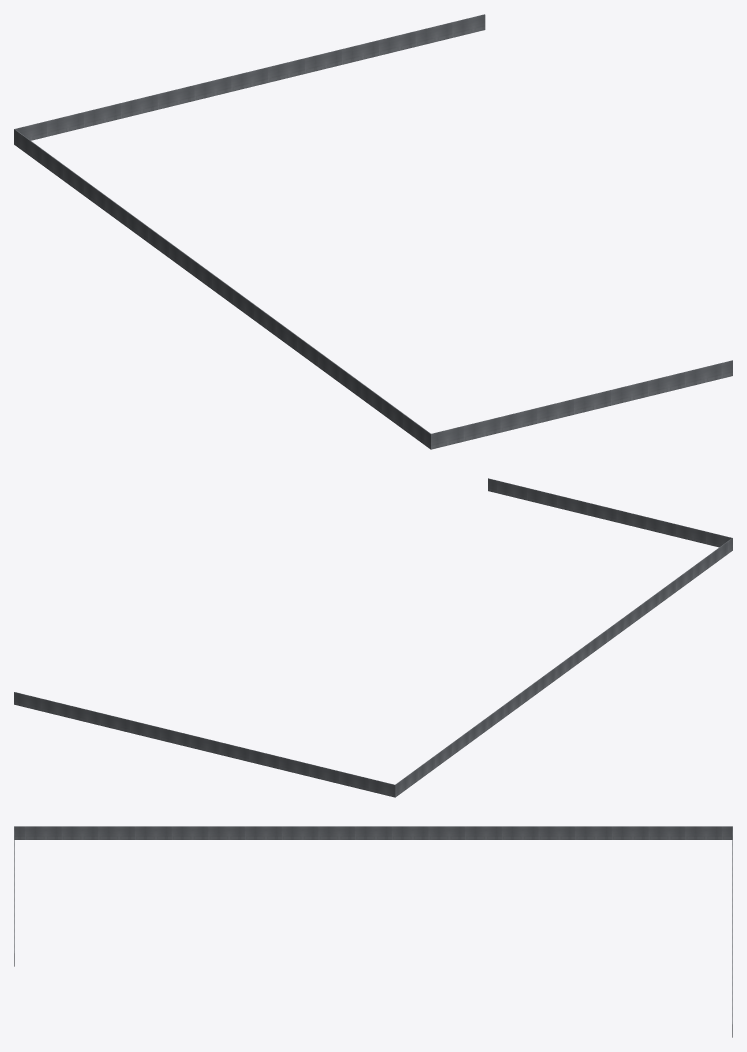
Rendered from BP_CatchIISiliconGloss.glb.
The picture shows the model from 3 angles, top to bottom: view 1: azimuth 30°, elevation 25°; view 2: azimuth 150°, elevation 25°; view 3: azimuth 270°, elevation 25°; orthographic projection. The views are drawn at different scales.
Parts seen in each view (by area): view 1: BP_Catch II Silicon Gloss; view 2: BP_Catch II Silicon Gloss; view 3: BP_Catch II Silicon Gloss.
Part boxes in pixels (x1,y1,x2,y2): BP_Catch II Silicon Gloss: (14,14,732,449); BP_Catch II Silicon Gloss: (14,478,732,797); BP_Catch II Silicon Gloss: (14,826,732,1037).
Bounding box in the file's own units: 6.39 × 0.2 × 9.8.
1 material, 1 textured.
